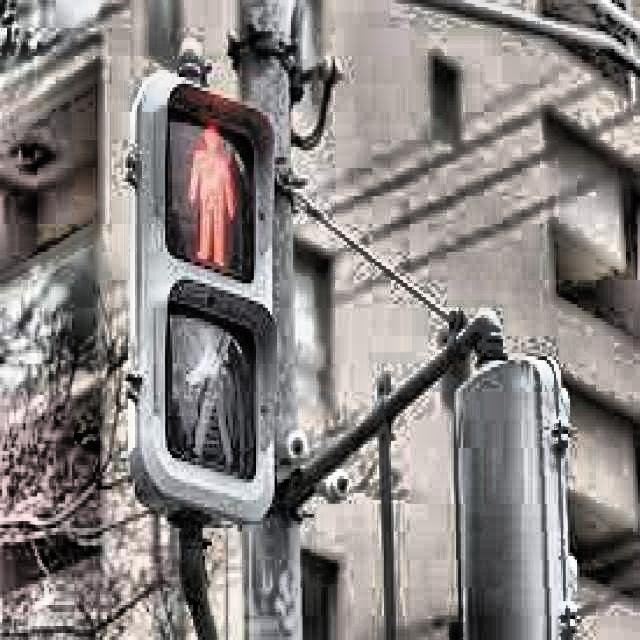semaforo pedestre: (77, 61, 350, 562)
